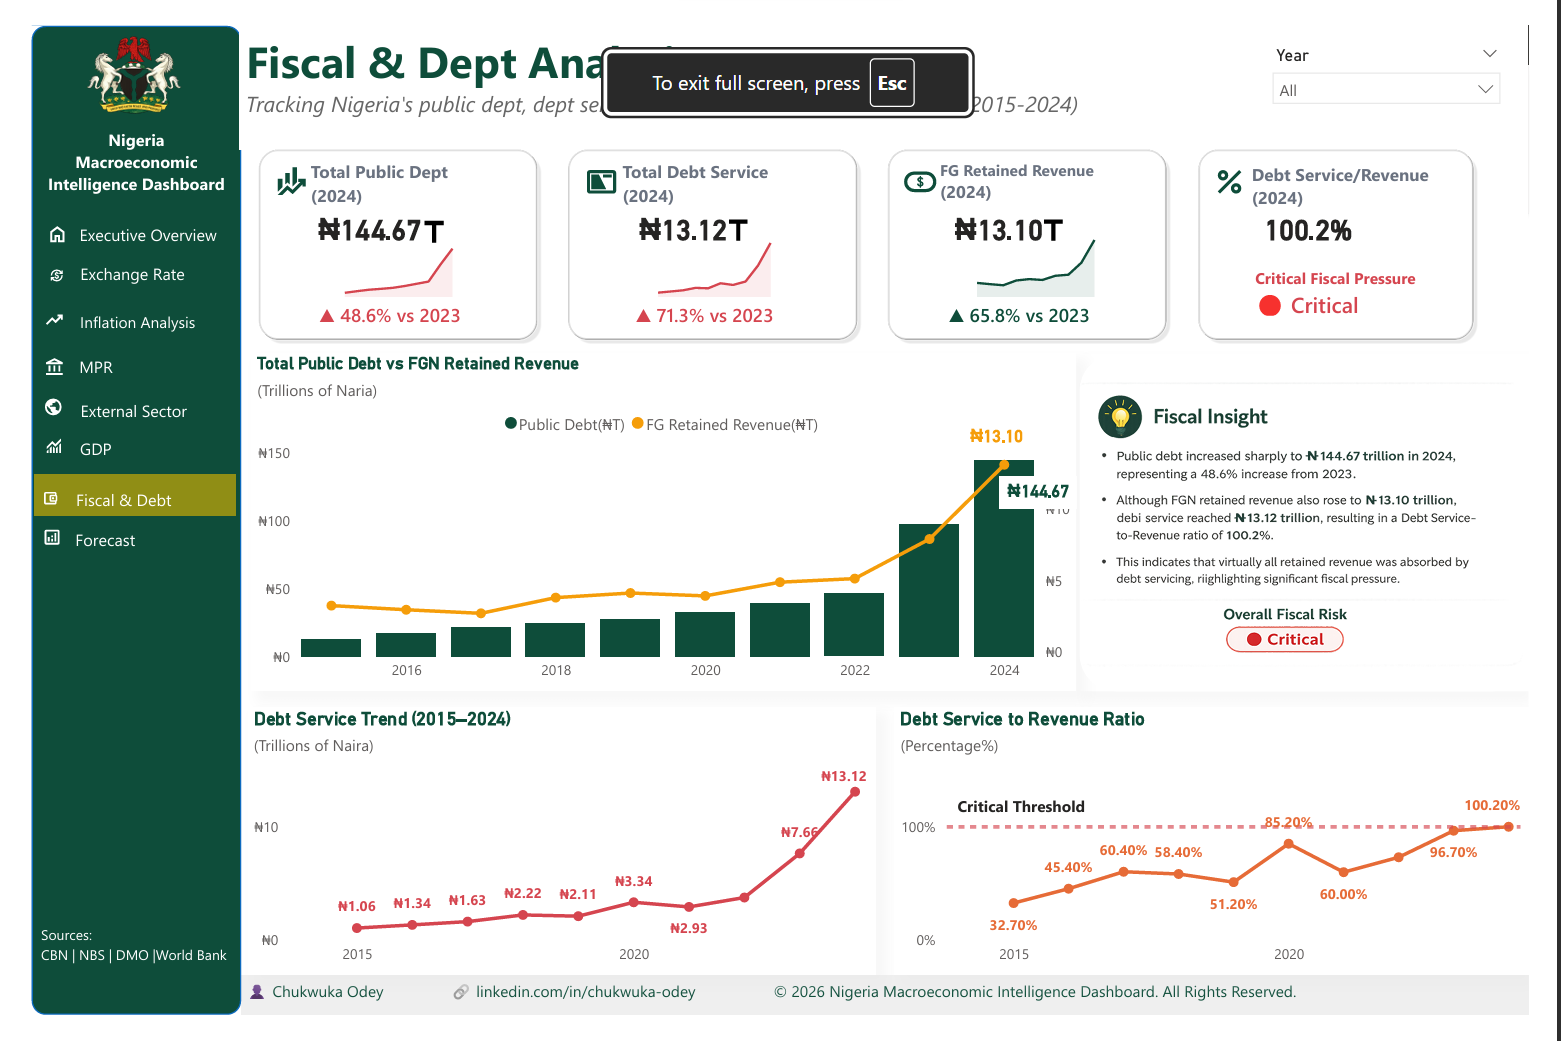

What the dashboard file says about the page in this screenshot:
{"tool":"powerbi","page":{"name":"Fiscal &  Analysis","canvas":[1290,850],"ordinal":3},"visuals":[{"type":"shape","box":[2.9,0,180.5,850.3],"z":0},{"type":"shape","box":[193.4,100.5,250,173.9],"z":0,"group":"g9"},{"type":"shape","box":[459.1,100.5,259,173.9],"z":0,"group":"g12"},{"type":"shape","box":[733.8,100.5,249.5,173.9],"z":0,"group":"g11"},{"type":"shape","box":[1001.1,101.3,246.7,173.9],"z":0,"group":"g10"},{"type":"textbox","title":"Executive Overview","box":[17.6,165.4,155,31.8],"z":0,"group":"g6"},{"type":"image","box":[15.6,209.1,17,11.4],"z":0,"group":"g8"},{"type":"image","box":[14,244.1,16.9,17.2],"z":0,"group":"g4"},{"type":"textbox","title":"Executive Overview","box":[13.5,272.8,158.6,36.2],"z":0,"group":"g7"},{"type":"shape","box":[903.7,281.5,386.9,290.2],"z":0,"group":"g14"},{"type":"textbox","title":"Executive Overview","box":[3.3,316.3,160,29.4],"z":0,"group":"g5"},{"type":"textbox","title":"Executive Overview","box":[3.1,348.6,163.9,34.4],"z":0,"group":"g3"},{"type":"image","box":[12.1,430.6,16.7,17.2],"z":0,"group":"g1"},{"type":"image","title":"Coat of Arm","box":[0,0,182.1,107.5],"z":1000},{"type":"image","box":[16.4,170.5,17.4,17.9],"z":1000,"group":"g6"},{"type":"cardVisual","fields":{"Data":["Measures (2).Fiscal Pressure Status"]},"box":[1025.7,192.9,197.8,73.6],"z":1000,"group":"g10"},{"type":"textbox","title":"Exchange","box":[5.9,198.4,168.3,36],"z":1000,"group":"g8"},{"type":"card","title":"Card 2","fields":{"Values":["Measures (2).Public Debt Subtitle"]},"box":[217.1,236.8,188.3,26.4],"z":1000,"group":"g9"},{"type":"card","title":"Card 2","fields":{"Values":["Measures (2).Debt Service Subtitle"]},"box":[483.7,236.8,195.1,26.4],"z":1000,"group":"g12"},{"type":"card","title":"Card 2","fields":{"Values":["Measures (2).Revenue Subtitle"]},"box":[757.5,236.8,187.9,26.4],"z":1000,"group":"g11"},{"type":"textbox","title":"Executive Overview","box":[14,241,158.5,29.4],"z":1000,"group":"g4"},{"type":"image","box":[904.1,282.2,386.9,290.2],"z":1000,"group":"g14"},{"type":"image","box":[13.4,284.9,16.9,17.1],"z":1000,"group":"g7"},{"type":"image","box":[13.3,319.4,16.8,17],"z":1000,"group":"g5"},{"type":"actionButton","box":[10.9,347.9,162.2,36],"z":1000,"group":"g3"},{"type":"textbox","title":"Executive Overview","box":[1,426.2,165.8,29.6],"z":1000,"group":"g1"},{"type":"textbox","box":[3.1,82.8,179.7,76.6],"z":2000},{"type":"card","title":"Card 1","fields":{"Values":["Measures (2).Latest Public Debt"]},"box":[223.5,153.4,140.8,41.7],"z":2000,"group":"g9"},{"type":"card","title":"Card 1","fields":{"Values":["Measures (2).Latest Debt Service"]},"box":[490.2,153.4,145.9,41.7],"z":2000,"group":"g12"},{"type":"card","title":"Card 1","fields":{"Values":["Measures (2).Latest Revenue"]},"box":[763.8,153.4,140.5,41.7],"z":2000,"group":"g11"},{"type":"card","title":"Card 1","fields":{"Values":["Measures (2).Latest DS Revenue"]},"box":[1030.8,154.2,139,41.7],"z":2000,"group":"g10"},{"type":"actionButton","box":[6,161.2,170,35.9],"z":2000,"group":"g6"},{"type":"actionButton","box":[5.5,201.2,170,32.1],"z":2000,"group":"g8"},{"type":"actionButton","box":[3.3,234.9,169.7,34.8],"z":2000,"group":"g4"},{"type":"actionButton","box":[4.8,274.6,169.2,34.9],"z":2000,"group":"g7"},{"type":"actionButton","box":[3.4,310.2,170.7,35.3],"z":2000,"group":"g5"},{"type":"image","box":[12.8,353,17.8,16.4],"z":2000,"group":"g3"},{"type":"actionButton","box":[5,385.6,172.5,36.2],"z":2000,"group":"g2"},{"type":"actionButton","box":[3.3,421.6,167.5,35.3],"z":2000,"group":"g1"},{"type":"image","box":[10.1,398.7,16.8,14.2],"z":2250,"group":"g2"},{"type":"textbox","title":"Executive Overview","box":[10.1,392.2,150.3,29.2],"z":2500,"group":"g2"},{"type":"textbox","box":[238.7,110,167.7,50.1],"z":3000,"group":"g9"},{"type":"textbox","box":[506,110,173.8,50.1],"z":3000,"group":"g12"},{"type":"textbox","box":[779,110,167.4,50.1],"z":3000,"group":"g11"},{"type":"textbox","box":[1047.1,112.4,182.3,50.1],"z":3000,"group":"g10"},{"type":"group","id":"g1","title":"Nav Forecasting & Outlook","box":[1,421.6,170,36],"z":3000},{"type":"image","box":[568.8,161.1,83.7,27.4],"z":4000,"group":"g12"},{"type":"image","box":[840.6,161.1,80.8,27.4],"z":4000,"group":"g11"},{"type":"image","box":[308.9,162.6,80.8,27.4],"z":4000,"group":"g9"},{"type":"group","id":"g2","title":"Nav Fiscal & Debt Analysis","box":[5,385.6,172.5,36.2],"z":4000},{"type":"lineChart","fields":{"Category":["Fiscal.Year"],"Y":["Measures (2).Latest Revenue"]},"box":[744.6,162,198.6,76.5],"z":5000,"group":"g11"},{"type":"lineChart","fields":{"Category":["Fiscal.Year"],"Y":["Measures (2).Latest Debt Service"]},"box":[473,166,190.8,72.3],"z":5000,"group":"g12"},{"type":"lineChart","fields":{"Category":["Fiscal.Year"],"Y":["Measures (2).Latest Public Debt"]},"box":[206.6,175.6,184.2,62.6],"z":5000,"group":"g9"},{"type":"group","id":"g3","title":"Nav Economic Growth","box":[3.1,347.9,170,36],"z":5000},{"type":"group","id":"g4","title":"Nav Inflation Analysis","box":[3.3,234.9,169.7,35.5],"z":5500},{"type":"image","box":[206.1,118.1,39.6,30.6],"z":6000,"group":"g9"},{"type":"image","box":[472.2,118.1,41,30.6],"z":6000,"group":"g12"},{"type":"image","box":[746.4,118.1,39.5,30.6],"z":6000,"group":"g11"},{"type":"image","box":[1013.6,118.9,39,30.6],"z":6000,"group":"g10"},{"type":"group","id":"g5","title":"Nav External Sector","box":[3.3,310.2,170,36],"z":6000},{"type":"group","id":"g6","title":"Nav - Executive Overview","box":[6,161.2,170,36],"z":9000},{"type":"group","id":"g7","title":"Nav Monetary Policy (MPR)","box":[4.8,272.8,169.2,36.7],"z":9500},{"type":"group","id":"g8","title":"Nav - Exchange","box":[5.5,198.4,170,36],"z":10000},{"type":"textbox","box":[182.3,0,744.3,107.1],"z":11000},{"type":"group","id":"g9","title":"Total Public Dept","box":[193.4,100.5,250,173.9],"z":12000},{"type":"group","id":"g10","title":"Dept/ Rev KPI","box":[1001.1,101.3,246.7,173.9],"z":13000},{"type":"group","id":"g11","title":"FG KPI","box":[733.8,100.5,249.5,173.9],"z":14000},{"type":"group","id":"g12","title":"Total Dept Service","box":[459.1,100.5,259,173.9],"z":15000},{"type":"group","id":"g13","title":"Group 1","box":[192,281.5,710.3,290.2],"z":16000},{"type":"lineClusteredColumnComboChart","title":"Total Public Debt vs FGN Retained Revenue","fields":{"Category":["Fiscal.Year"],"Y":["Measures (2).Latest Public Debt"],"Y2":["Measures (2).Latest Revenue"]},"box":[192,281.5,709.2,290.2],"z":16000,"group":"g13"},{"type":"card","title":"Card 1","fields":{"Values":["Measures (2).Latest Revenue"]},"box":[794.1,339.1,76.9,27.4],"z":16250,"group":"g13"},{"type":"card","title":"Card 1","fields":{"Values":["Measures (2).Latest Public Debt"]},"box":[835.4,386.7,66.9,27.4],"z":16500,"group":"g13"},{"type":"textbox","box":[183.3,815.6,1107.3,34.6],"z":17000},{"type":"group","id":"g14","title":"Group 2","box":[903.7,281.5,387.3,290.9],"z":18000},{"type":"lineChart","title":"Debt Service Trend (2015–2024)","fields":{"Category":["Fiscal.Year"],"Y":["Measures (2).Latest Debt Service"]},"box":[189.1,586.1,539.9,229.5],"z":19000},{"type":"slicer","fields":{"Values":["Fiscal.Year"]},"box":[1059.6,11.5,216.5,70.7],"z":20000},{"type":"lineChart","title":"Debt Service to Revenue Ratio","fields":{"Category":["Fiscal.Year"],"Y":["Sum(Fiscal.DS/Revenue)"]},"box":[744.9,586.1,545.7,229.5],"z":20000,"group":"g15"},{"type":"textbox","box":[5.8,766.6,171.8,66.4],"z":21000},{"type":"group","id":"g15","title":"Group 3","box":[744.9,586.1,545.7,229.5],"z":22000},{"type":"textbox","box":[793.8,656.9,127.7,27.7],"z":22001,"group":"g15"}]}

Visuals, with their boxes in screenshot pixels (x1, y1, x2, y2), scaled from the page's 1290x850 canvas onto the 1561x1041 screenshot:
shape: bbox(4, 0, 222, 1040)
shape: bbox(234, 123, 537, 336)
shape: bbox(556, 123, 869, 336)
shape: bbox(888, 123, 1190, 336)
shape: bbox(1211, 124, 1510, 337)
"Executive Overview" textbox: bbox(21, 203, 209, 242)
image: bbox(19, 256, 39, 270)
image: bbox(17, 299, 37, 320)
"Executive Overview" textbox: bbox(16, 334, 208, 378)
shape: bbox(1094, 345, 1560, 700)
"Executive Overview" textbox: bbox(4, 387, 198, 423)
"Executive Overview" textbox: bbox(4, 427, 202, 469)
image: bbox(15, 527, 35, 548)
"Coat of Arm" image: bbox(0, 0, 220, 132)
image: bbox(20, 209, 41, 231)
cardVisual - Measures (2).Fiscal Pressure Status: bbox(1241, 236, 1481, 326)
"Exchange" textbox: bbox(7, 243, 211, 287)
"Card 2" card: bbox(263, 290, 491, 322)
"Card 2" card: bbox(585, 290, 821, 322)
"Card 2" card: bbox(917, 290, 1144, 322)
"Executive Overview" textbox: bbox(17, 295, 209, 331)
image: bbox(1094, 346, 1560, 701)
image: bbox(16, 349, 37, 370)
image: bbox(16, 391, 36, 412)
actionButton: bbox(13, 426, 209, 470)
"Executive Overview" textbox: bbox(1, 522, 202, 558)
textbox: bbox(4, 101, 221, 195)
"Card 1" card: bbox(270, 188, 441, 239)
"Card 1" card: bbox(593, 188, 770, 239)
"Card 1" card: bbox(924, 188, 1094, 239)
"Card 1" card: bbox(1247, 189, 1416, 240)
actionButton: bbox(7, 197, 213, 241)
actionButton: bbox(7, 246, 212, 286)
actionButton: bbox(4, 288, 209, 330)
actionButton: bbox(6, 336, 211, 379)
actionButton: bbox(4, 380, 211, 423)
image: bbox(15, 432, 37, 452)
actionButton: bbox(6, 472, 215, 517)
actionButton: bbox(4, 516, 207, 560)
image: bbox(12, 488, 33, 506)
"Executive Overview" textbox: bbox(12, 480, 194, 516)
textbox: bbox(289, 135, 492, 196)
textbox: bbox(612, 135, 823, 196)
textbox: bbox(943, 135, 1145, 196)
textbox: bbox(1267, 138, 1488, 199)
"Nav Forecasting & Outlook" group: bbox(1, 516, 207, 560)
image: bbox(688, 197, 790, 231)
image: bbox(1017, 197, 1115, 231)
image: bbox(374, 199, 472, 233)
"Nav Fiscal & Debt Analysis" group: bbox(6, 472, 215, 517)
lineChart - Fiscal.Year x Measures (2).Latest Revenue: bbox(901, 198, 1141, 292)
lineChart - Fiscal.Year x Measures (2).Latest Debt Service: bbox(572, 203, 803, 292)
lineChart - Fiscal.Year x Measures (2).Latest Public Debt: bbox(250, 215, 473, 292)
"Nav Economic Growth" group: bbox(4, 426, 209, 470)
"Nav Inflation Analysis" group: bbox(4, 288, 209, 331)
image: bbox(249, 145, 297, 182)
image: bbox(571, 145, 621, 182)
image: bbox(903, 145, 951, 182)
image: bbox(1227, 146, 1274, 183)
"Nav External Sector" group: bbox(4, 380, 210, 424)
"Nav - Executive Overview" group: bbox(7, 197, 213, 242)
"Nav Monetary Policy (MPR)" group: bbox(6, 334, 211, 379)
"Nav - Exchange" group: bbox(7, 243, 212, 287)
textbox: bbox(221, 0, 1121, 131)
"Total Public Dept" group: bbox(234, 123, 537, 336)
"Dept/ Rev KPI" group: bbox(1211, 124, 1510, 337)
"FG KPI" group: bbox(888, 123, 1190, 336)
"Total Dept Service" group: bbox(556, 123, 869, 336)
"Group 1" group: bbox(232, 345, 1092, 700)
"Total Public Debt vs FGN Retained Revenue" lineClusteredColumnComboChart: bbox(232, 345, 1091, 700)
"Card 1" card: bbox(961, 415, 1054, 449)
"Card 1" card: bbox(1011, 474, 1092, 507)
textbox: bbox(222, 999, 1560, 1040)
"Group 2" group: bbox(1094, 345, 1560, 701)
"Debt Service Trend (2015–2024)" lineChart: bbox(229, 718, 882, 999)
slicer - Fiscal.Year: bbox(1282, 14, 1544, 101)
"Debt Service to Revenue Ratio" lineChart: bbox(901, 718, 1560, 999)
textbox: bbox(7, 939, 215, 1020)
"Group 3" group: bbox(901, 718, 1560, 999)
textbox: bbox(961, 805, 1115, 838)
